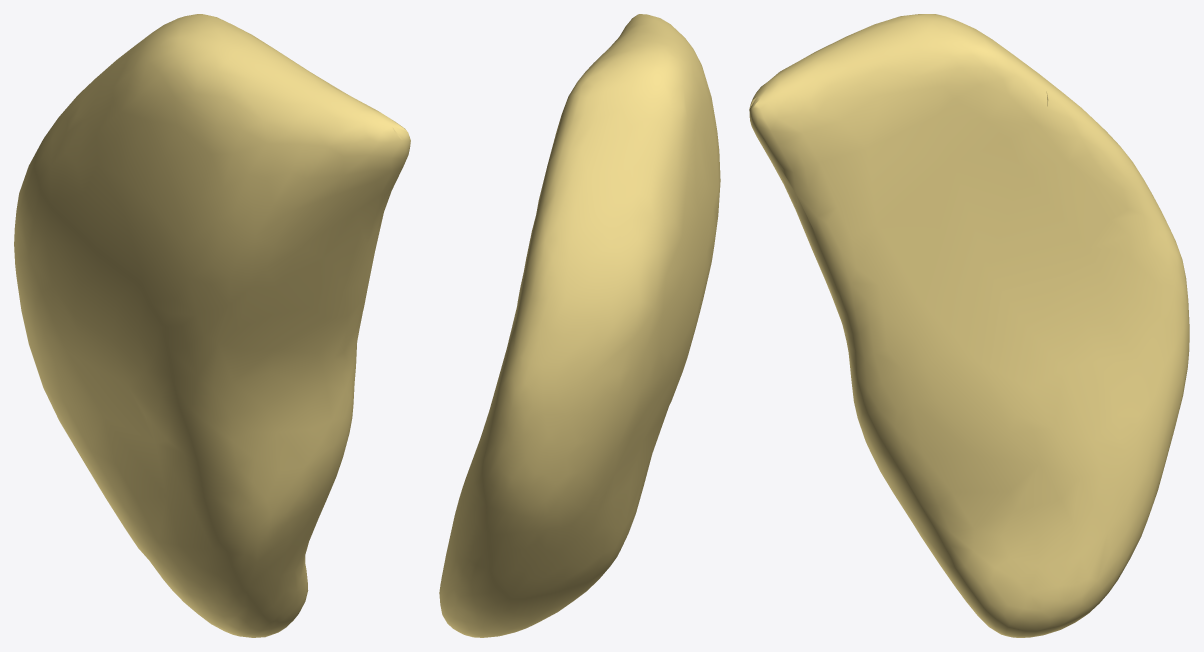
Rendered from fma72849_mm3247.glb.
The picture shows the model from 3 angles, left to right: view 1: azimuth 30°, elevation 25°; view 2: azimuth 150°, elevation 25°; view 3: azimuth 270°, elevation 25°; orthographic projection. The views are drawn at different scales.
Visible parts, largest first — view 1: FMA72849_MM3247; view 2: FMA72849_MM3247; view 3: FMA72849_MM3247.
Boxes of the visible parts, left/top/right/bottom form: FMA72849_MM3247: left=14, top=14, right=410, bottom=637; FMA72849_MM3247: left=439, top=14, right=720, bottom=637; FMA72849_MM3247: left=749, top=14, right=1189, bottom=637.
Bounding box in the file's own units: 0.00549 × 0.0142 × 0.01.
